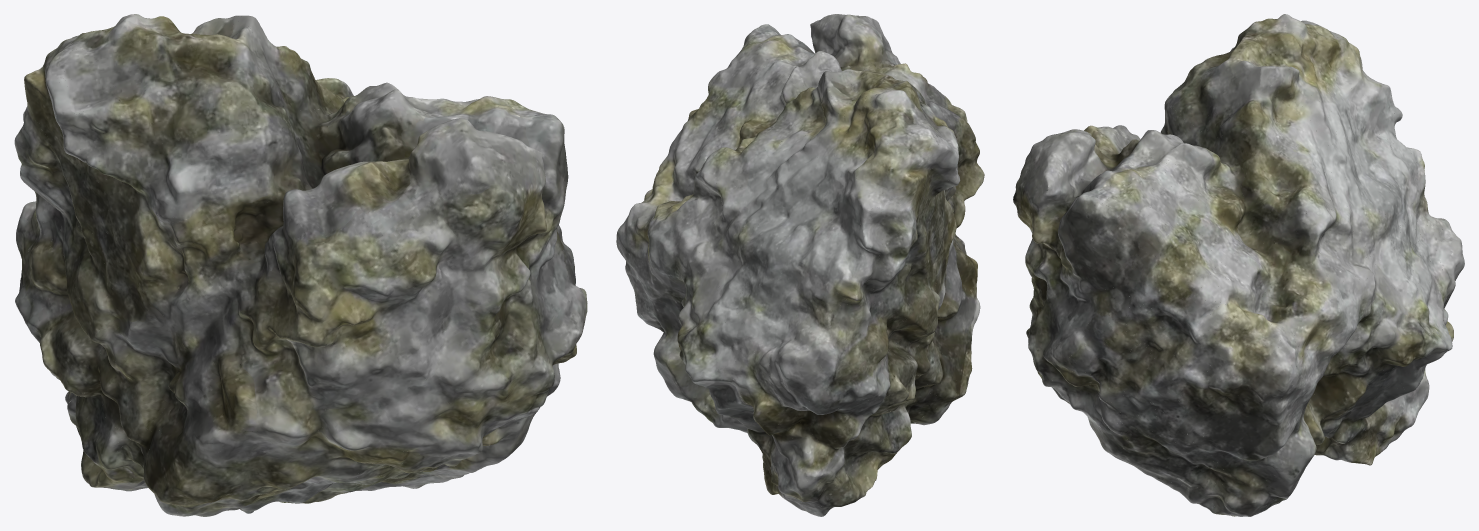
3 views of the same model, side by side, from view 1: azimuth 30°, elevation 25°; view 2: azimuth 150°, elevation 25°; view 3: azimuth 270°, elevation 25° (orthographic). The views are drawn at different scales.
Visible parts, largest first — view 1: Object_3, Object_2; view 2: Object_2, Object_3; view 3: Object_2, Object_3.
Boxes of the visible parts, <box> form: Object_3: <box>15,14,586,515</box>; Object_2: <box>14,14,587,516</box>; Object_2: <box>616,27,980,516</box>; Object_3: <box>617,14,984,516</box>; Object_2: <box>1037,20,1464,516</box>; Object_3: <box>1013,14,1464,516</box>.
Bounding box in the file's own units: 0.0188 × 0.0213 × 0.0209.
1 material, 1 textured.
